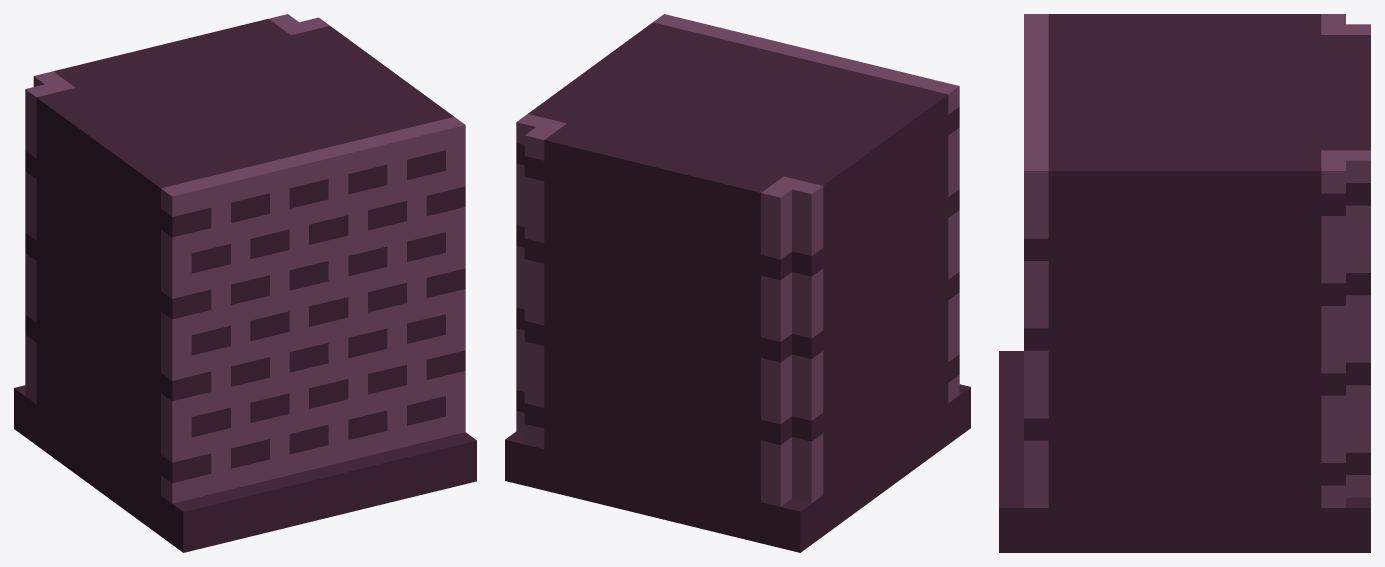
Rendered from dungeon_c_b_inner_wall_segment_b_flipped.obj.
The picture shows the model from 3 angles, left to right: view 1: azimuth 30°, elevation 25°; view 2: azimuth 150°, elevation 25°; view 3: azimuth 270°, elevation 25°; orthographic projection. The views are drawn at different scales.
Size of the model in its own units: 1.5 by 1.7 by 1.5.
1 material, 1 textured.
